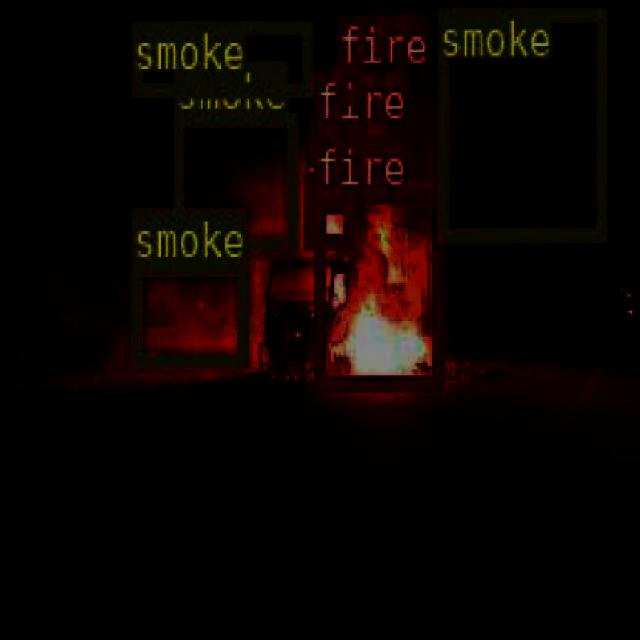fire: (313, 188, 442, 388), (312, 120, 366, 172), (301, 197, 354, 248), (334, 64, 362, 102)
smoke: (436, 6, 604, 239), (172, 110, 296, 250), (131, 16, 311, 93), (130, 260, 246, 365)
